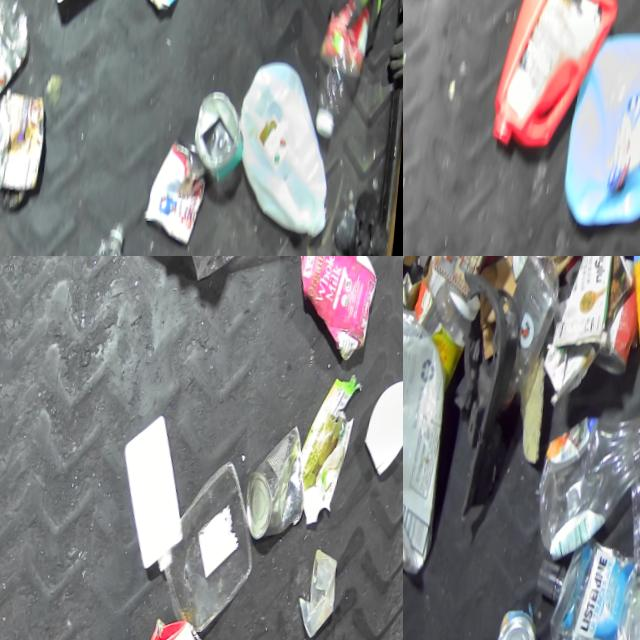can: (247, 427, 319, 544), (145, 140, 215, 253), (192, 92, 254, 190), (0, 88, 53, 193), (600, 257, 640, 380), (501, 256, 559, 286), (502, 607, 554, 640)
milk_jug: (230, 62, 348, 248), (115, 416, 206, 582)
non_white_jug: (491, 0, 636, 172), (566, 30, 640, 249), (140, 609, 242, 640)
plastic_bottle: (537, 411, 640, 567), (534, 530, 640, 640), (0, 0, 36, 135), (57, 220, 134, 256)
